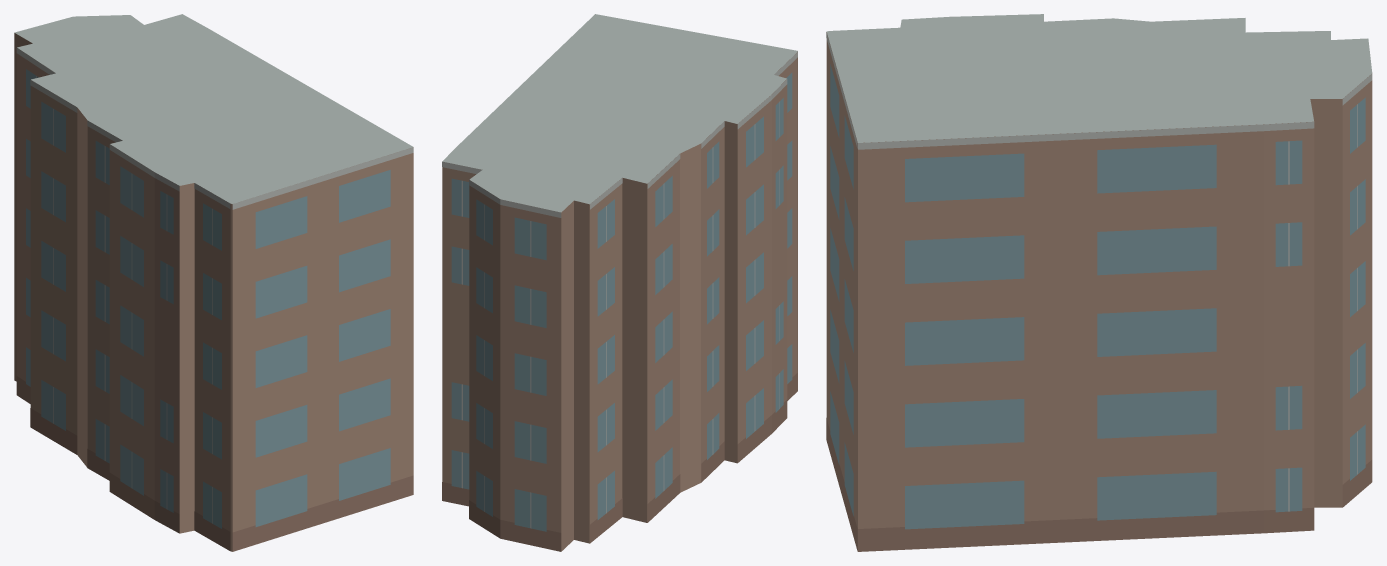
The model's file is survey-upis-32690404.glb.
3 renders of one model, left to right at view 1: azimuth 30°, elevation 25°; view 2: azimuth 150°, elevation 25°; view 3: azimuth 270°, elevation 25°, orthographic. The views are drawn at different scales.
Visible parts, largest first — view 1: survey-upis-32690404.tmp; view 2: survey-upis-32690404.tmp; view 3: survey-upis-32690404.tmp.
Part boxes in pixels (x1,y1,x2,y2): survey-upis-32690404.tmp: [14, 14, 413, 551]; survey-upis-32690404.tmp: [442, 14, 797, 551]; survey-upis-32690404.tmp: [826, 14, 1372, 551].
Bounding box in the file's own units: 9.99 × 14.75 × 17.85.
